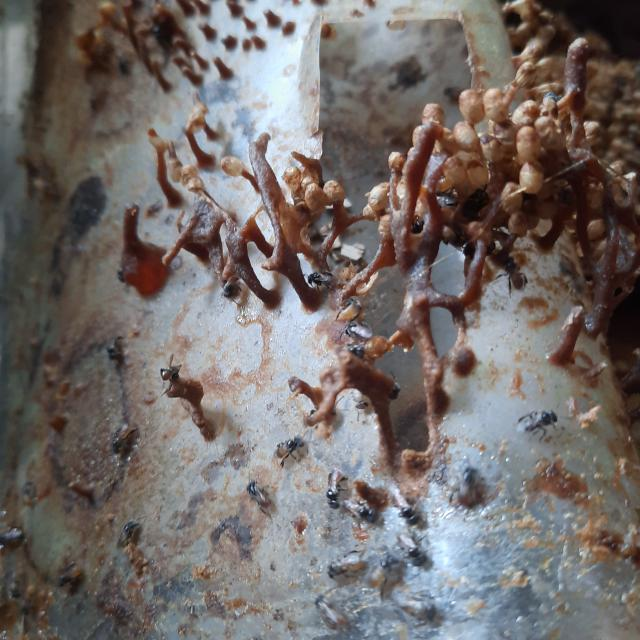honeybee: (326, 546, 369, 582), (305, 598, 351, 628), (519, 404, 568, 432), (398, 525, 430, 566), (54, 557, 86, 592), (397, 494, 426, 530), (403, 592, 437, 622), (304, 270, 342, 296), (273, 432, 303, 464), (458, 466, 479, 508), (346, 498, 381, 523), (243, 482, 272, 511), (430, 182, 457, 212), (347, 343, 387, 363), (371, 556, 394, 590), (156, 358, 182, 386), (0, 524, 30, 548), (117, 517, 139, 549), (102, 334, 125, 363), (323, 471, 341, 508), (114, 418, 134, 451), (338, 294, 362, 320), (340, 324, 377, 339), (219, 279, 242, 301), (115, 56, 134, 80), (151, 23, 170, 47), (117, 259, 132, 286), (411, 214, 428, 236)
